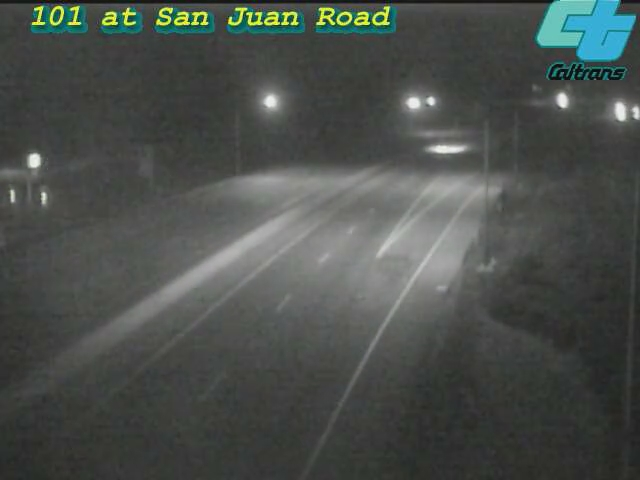vehicle: (421, 124, 471, 174), (593, 88, 640, 138), (611, 88, 640, 138)
